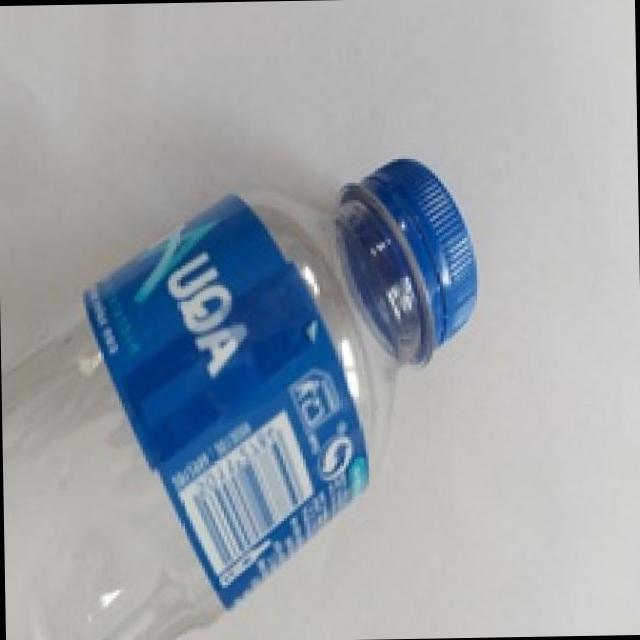good: (0, 157, 488, 640)
